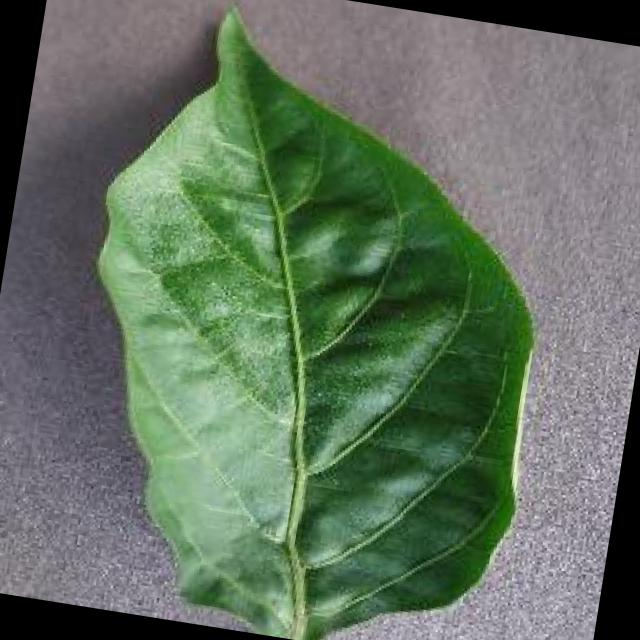Chilli_Healthy: (38, 0, 589, 640)
